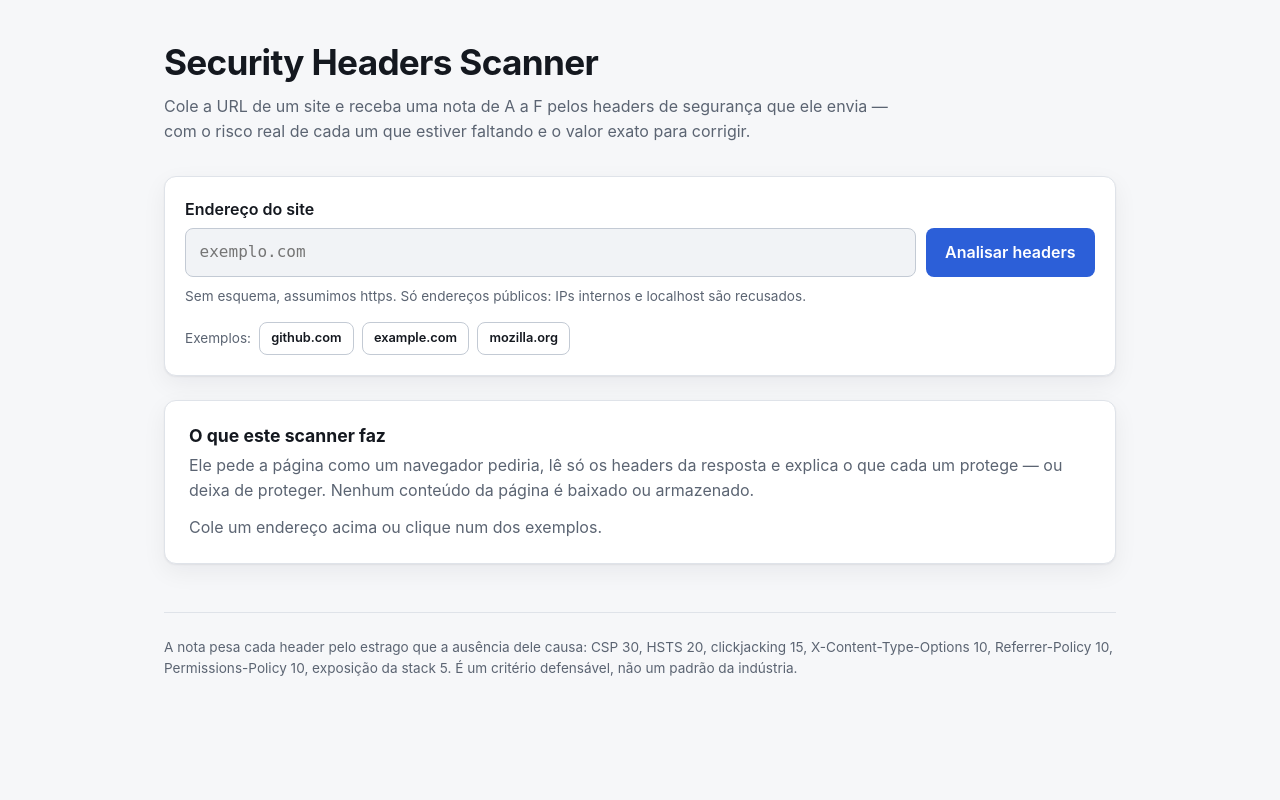
Test: App › explains the risk and the fix for a missing header
Type "example.com" into the field labelled "Endereço do site" at (551, 253), box [185,228,916,277]
Then press Enter
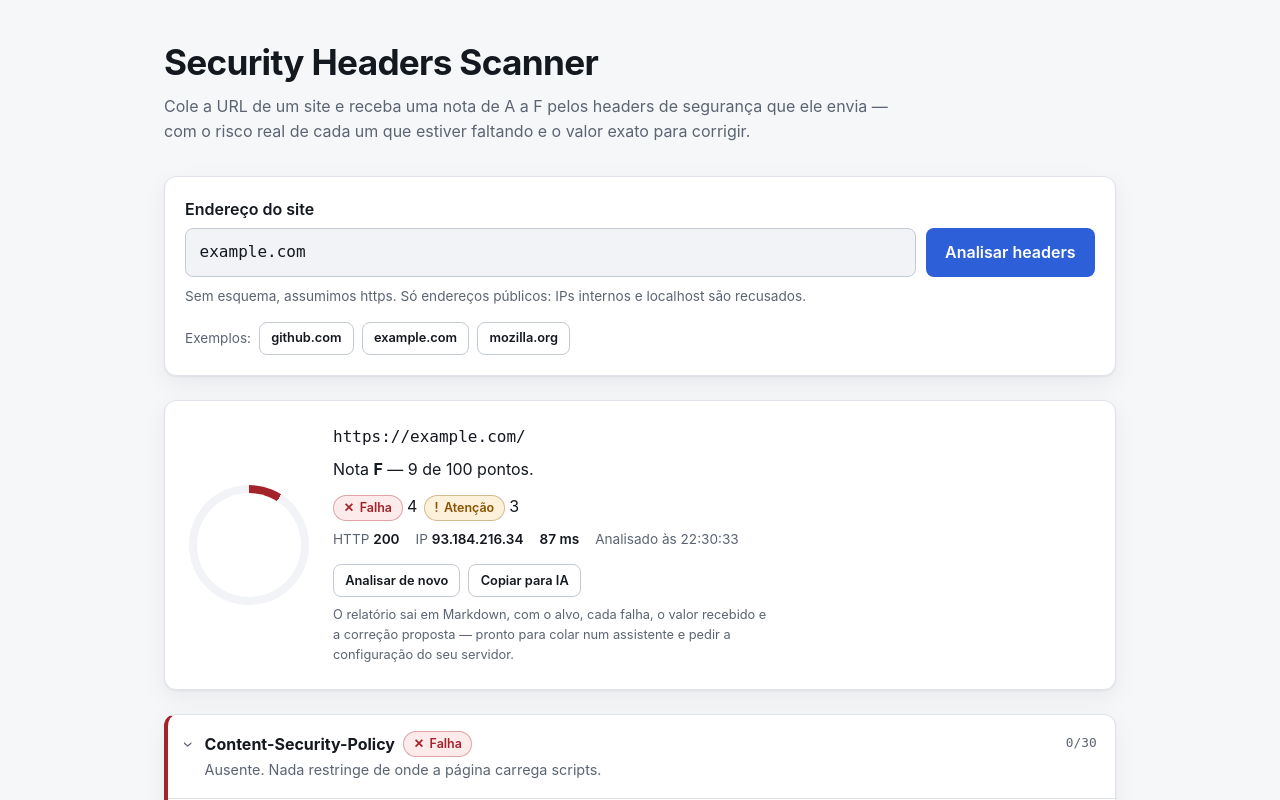
Expected: the button "Copiar para IA" is shown, [468,564,581,597]
